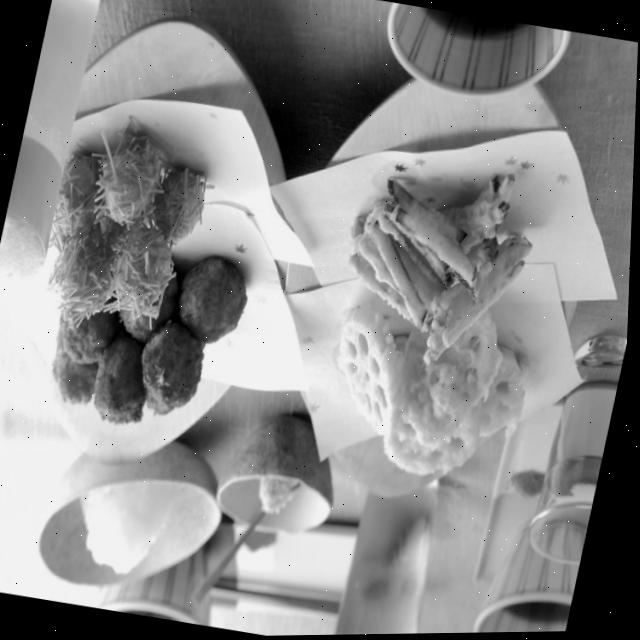蔬菜料理: (287, 133, 568, 542)
